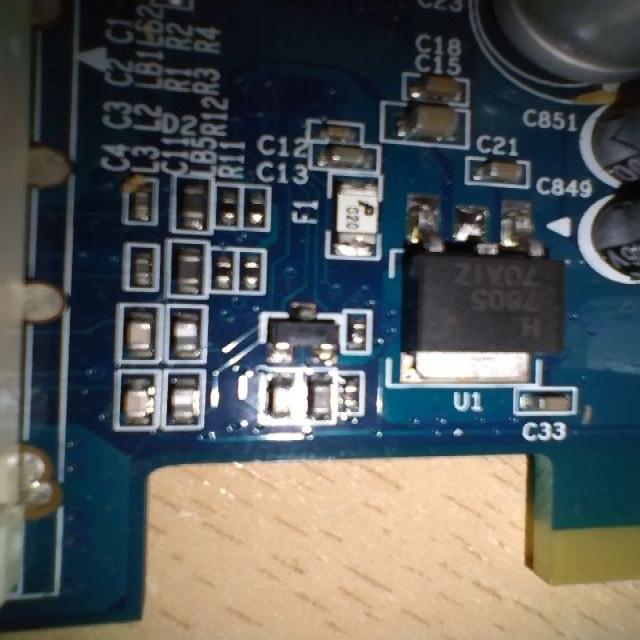capacitor: (376, 97, 478, 159), (306, 135, 392, 182), (509, 382, 588, 433), (114, 302, 170, 372), (162, 365, 212, 440), (396, 60, 475, 106), (113, 374, 164, 440), (170, 295, 215, 367), (456, 154, 540, 188), (309, 112, 377, 150)
resistor: (168, 239, 212, 298), (233, 240, 274, 300), (172, 172, 210, 236), (202, 245, 242, 298), (242, 180, 272, 242), (215, 184, 239, 233)
